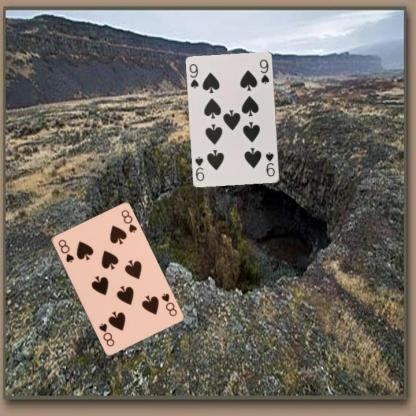8s: (158, 290, 178, 318), (56, 237, 76, 264)
9s: (186, 61, 200, 90), (264, 150, 276, 178)
